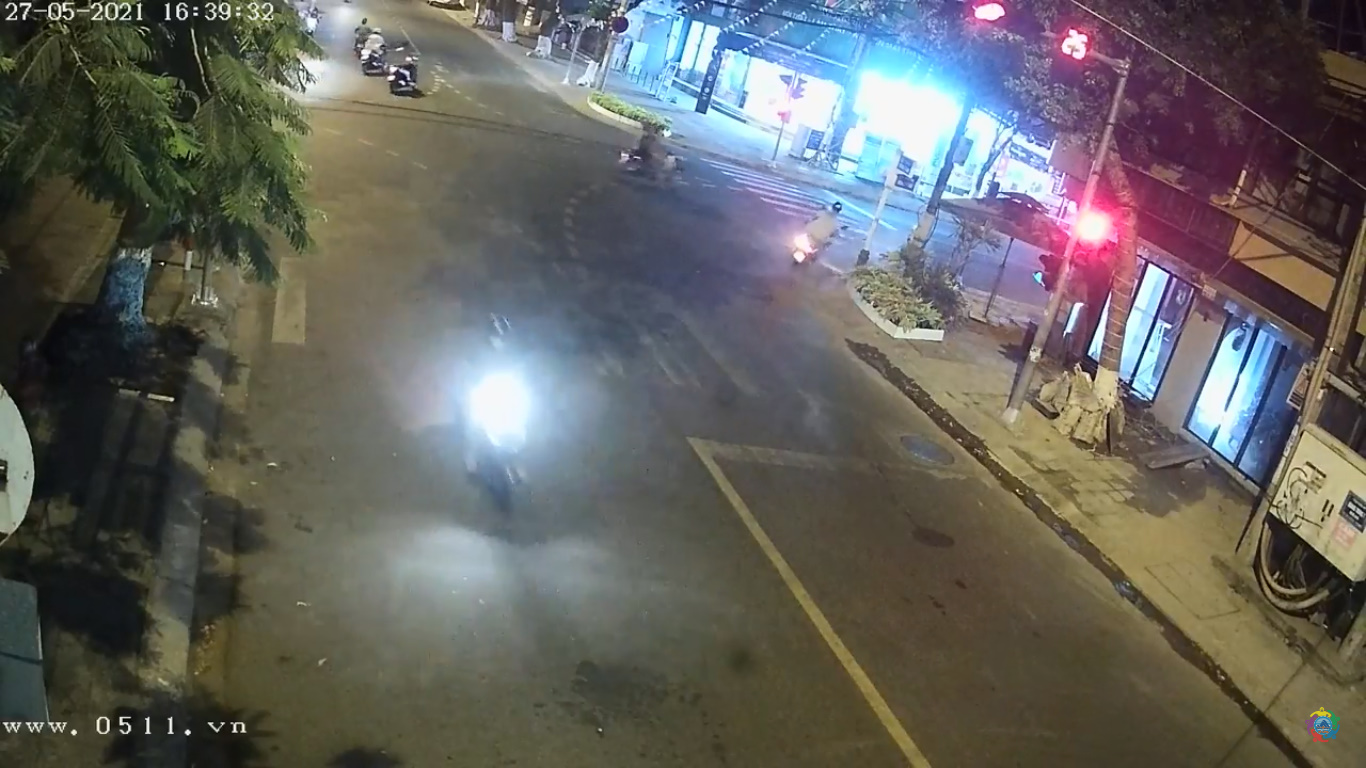motorbike: (420, 300, 568, 516)
